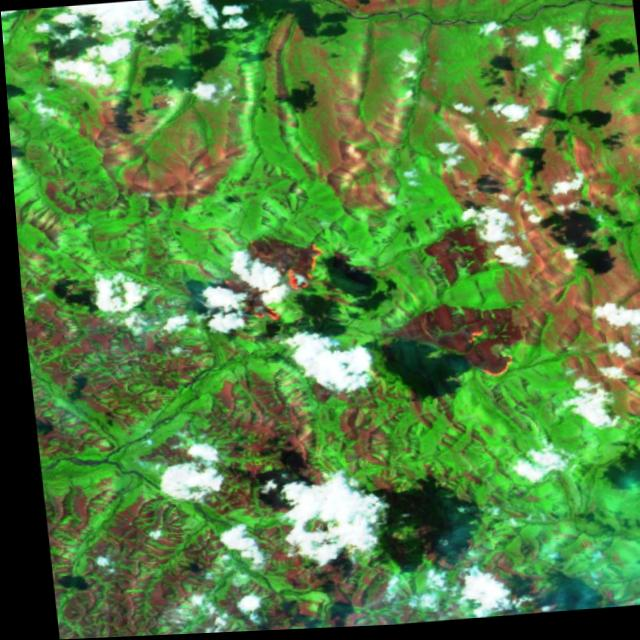fire: (222, 220, 336, 336), (406, 284, 526, 392)
